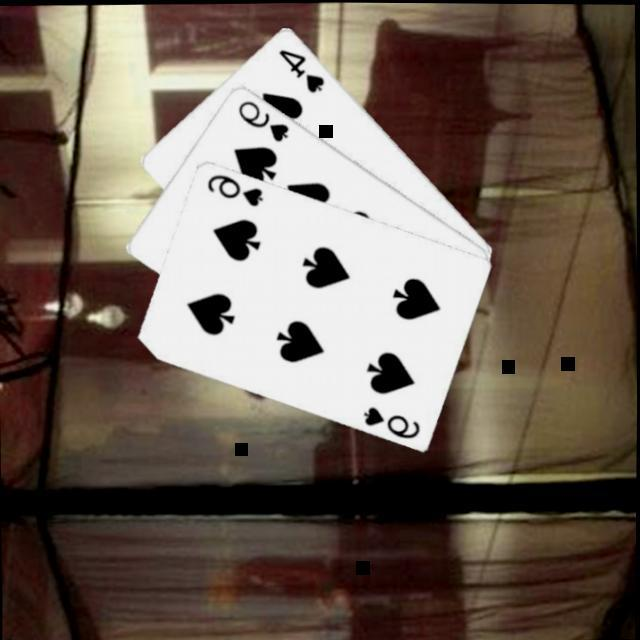4S: (273, 43, 325, 94)
6S: (201, 169, 264, 208), (357, 401, 420, 440)
9S: (232, 94, 290, 143)
